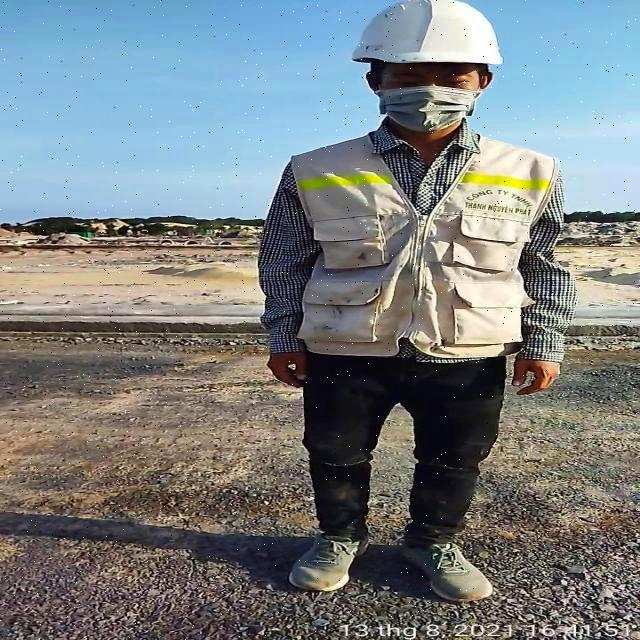Hard_hat: (345, 0, 509, 88)
Person: (236, 0, 590, 625)
